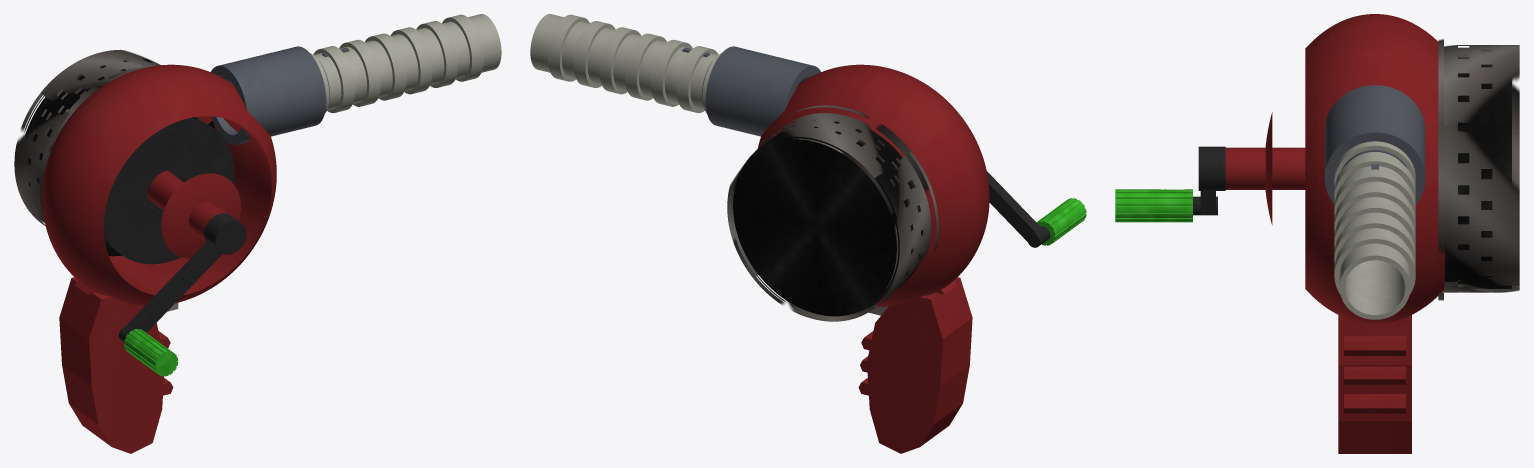
The model's file is pictureX_0611_Air_blower__0157.glb.
3 views of the same model, side by side, from view 1: azimuth 30°, elevation 25°; view 2: azimuth 150°, elevation 25°; view 3: azimuth 270°, elevation 25° (orthographic). The views are drawn at different scales.
Visible parts, largest first — view 1: housing::main_body, nozzle::metal_tube, fan_rotor::fan_wheel, housing::outlet_socket, housing::intake_grille, crank::crank_arm, crank::rotating_grip, housing::intake_foam, crank::crank_hub; view 2: housing::main_body, housing::intake_foam, nozzle::metal_tube, housing::intake_grille, housing::outlet_socket, crank::crank_arm, crank::rotating_grip; view 3: housing::main_body, housing::intake_grille, nozzle::metal_tube, housing::outlet_socket, housing::intake_foam, crank::rotating_grip, crank::crank_hub.
Boxes of the visible parts, <box> form: housing::main_body: <box>42,64,276,453</box>; nozzle::metal_tube: <box>310,14,501,113</box>; fan_rotor::fan_wheel: <box>103,117,234,264</box>; housing::outlet_socket: <box>211,46,326,144</box>; housing::intake_grille: <box>14,49,160,225</box>; crank::crank_arm: <box>122,240,222,334</box>; crank::rotating_grip: <box>124,329,178,376</box>; housing::intake_foam: <box>25,58,214,256</box>; crank::crank_hub: <box>204,213,246,254</box>; housing::main_body: <box>758,64,989,453</box>; housing::intake_foam: <box>733,120,922,316</box>; nozzle::metal_tube: <box>530,14,721,113</box>; housing::intake_grille: <box>727,105,938,321</box>; housing::outlet_socket: <box>705,46,820,136</box>; crank::crank_arm: <box>987,171,1044,241</box>; crank::rotating_grip: <box>1036,198,1086,245</box>; housing::main_body: <box>1225,14,1444,453</box>; housing::intake_grille: <box>1438,39,1519,300</box>; nozzle::metal_tube: <box>1334,141,1415,319</box>; housing::outlet_socket: <box>1324,85,1425,204</box>; housing::intake_foam: <box>1445,57,1511,288</box>; crank::rotating_grip: <box>1115,189,1192,222</box>; crank::crank_hub: <box>1198,146,1225,190</box>.
Size of the model in its own units: 0.3224 by 0.254 by 0.2088.
Materials: 8 (7 with a texture image).
